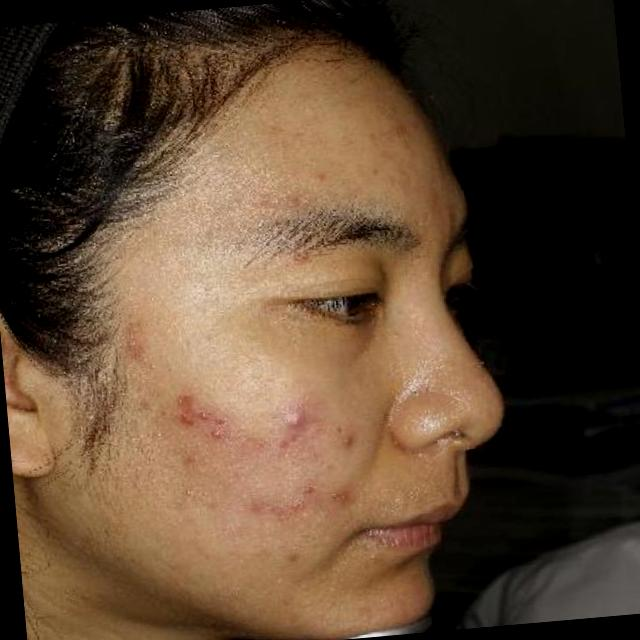nodules: (278, 403, 308, 432), (336, 426, 358, 450), (287, 494, 305, 514), (207, 425, 225, 443), (195, 406, 212, 424), (309, 170, 327, 185), (300, 480, 316, 495)
